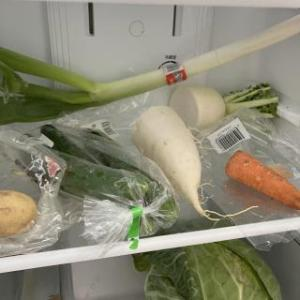cabbage: (132, 240, 282, 300)
carrot: (224, 150, 300, 212)
